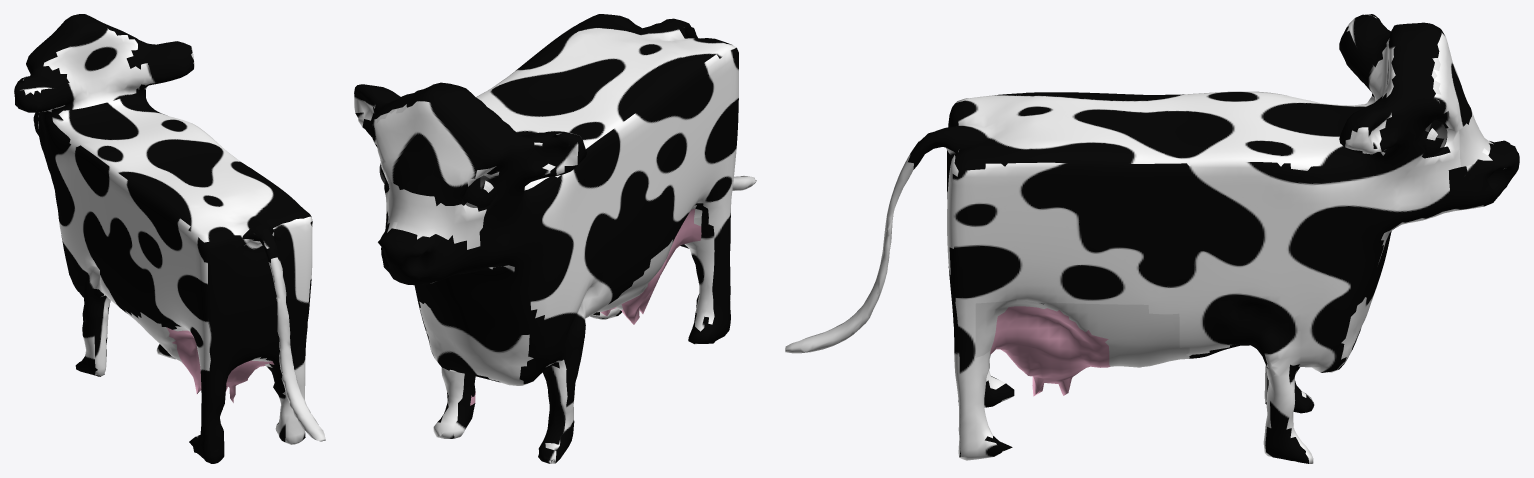
The model's file is Cow.fbx.
The picture shows the model from 3 angles, left to right: view 1: azimuth 30°, elevation 25°; view 2: azimuth 150°, elevation 25°; view 3: azimuth 270°, elevation 25°; orthographic projection. The views are drawn at different scales.
Parts seen in each view (by area): view 1: Cow; view 2: Cow, Eye; view 3: Cow.
Part boxes in pixels (left/top/right/bottom): Cow: left=14, top=14, right=325, bottom=463; Cow: left=354, top=14, right=756, bottom=463; Eye: left=379, top=163, right=496, bottom=208; Cow: left=785, top=14, right=1519, bottom=463.
Bounding box in the file's own units: 318 × 532 × 865.
